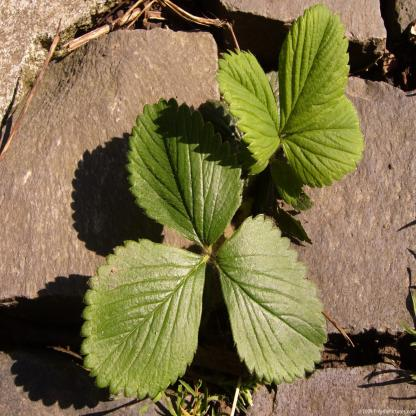strawberry leaf: (80, 240, 204, 401), (215, 209, 330, 380), (127, 91, 244, 241), (282, 3, 350, 137), (214, 42, 286, 156), (284, 89, 365, 190)
